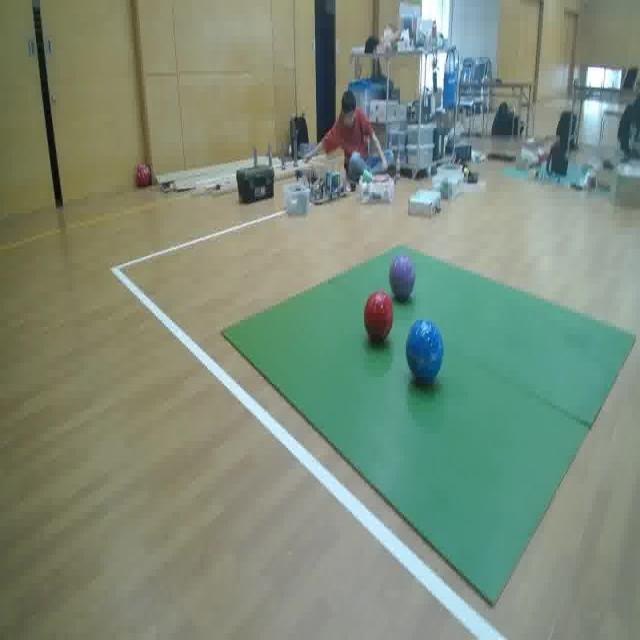blue_ball: (406, 318, 444, 382)
purple_ball: (390, 255, 416, 300)
red_ball: (365, 292, 393, 342)
